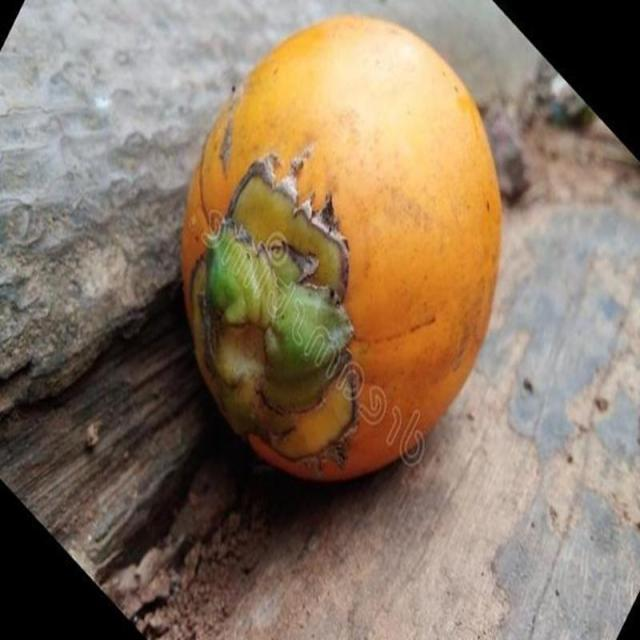good: (178, 14, 503, 486)
